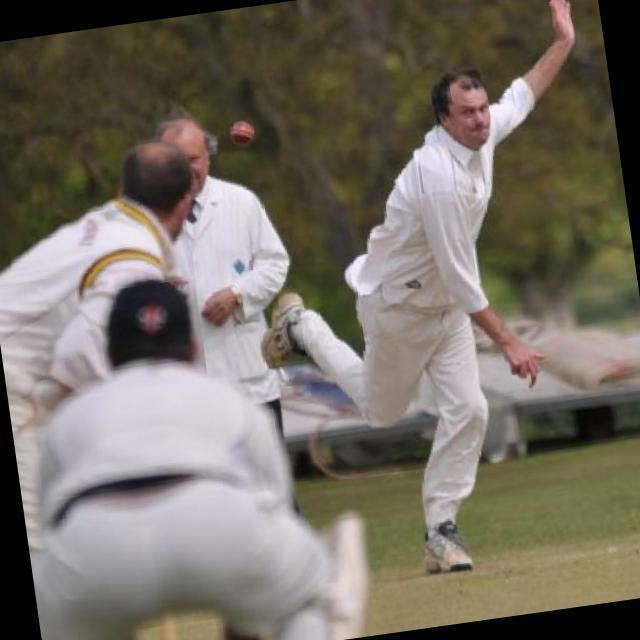-: (217, 104, 276, 171)
